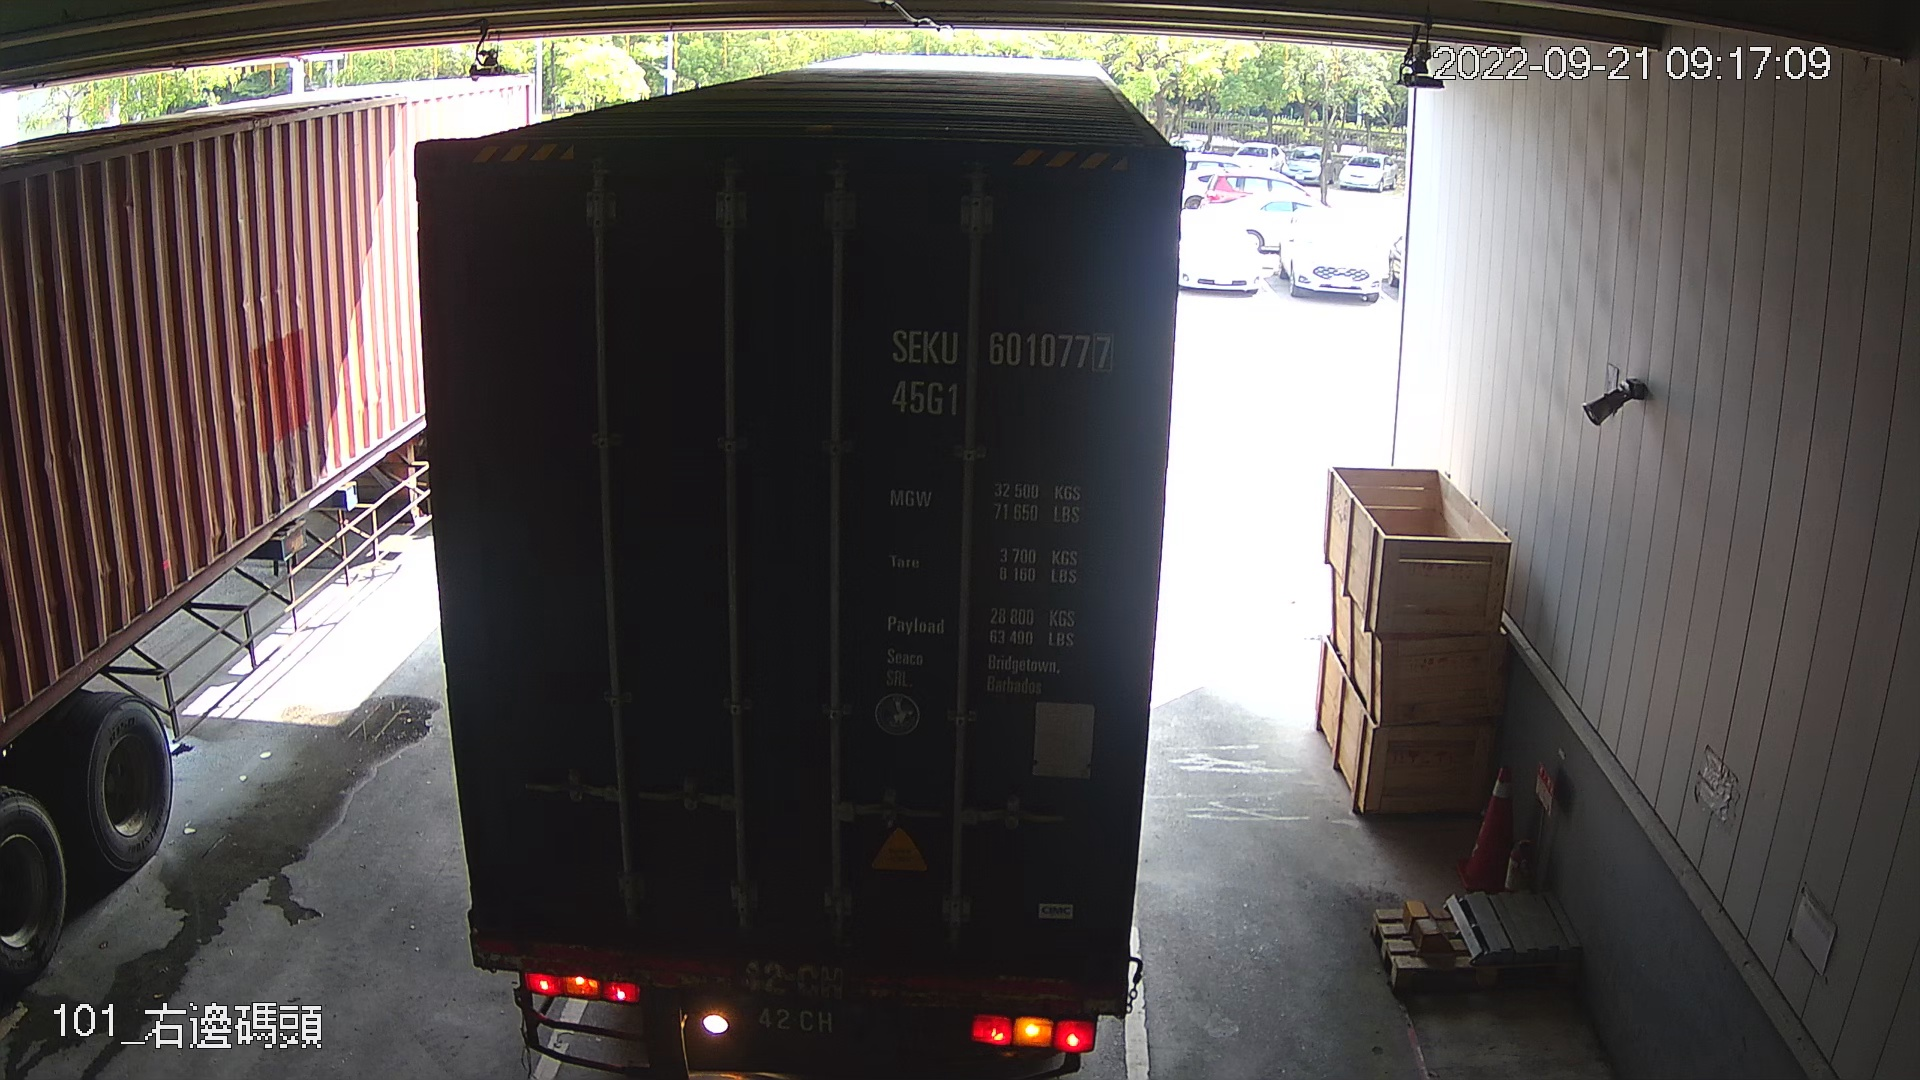container: (872, 316, 1122, 430)
